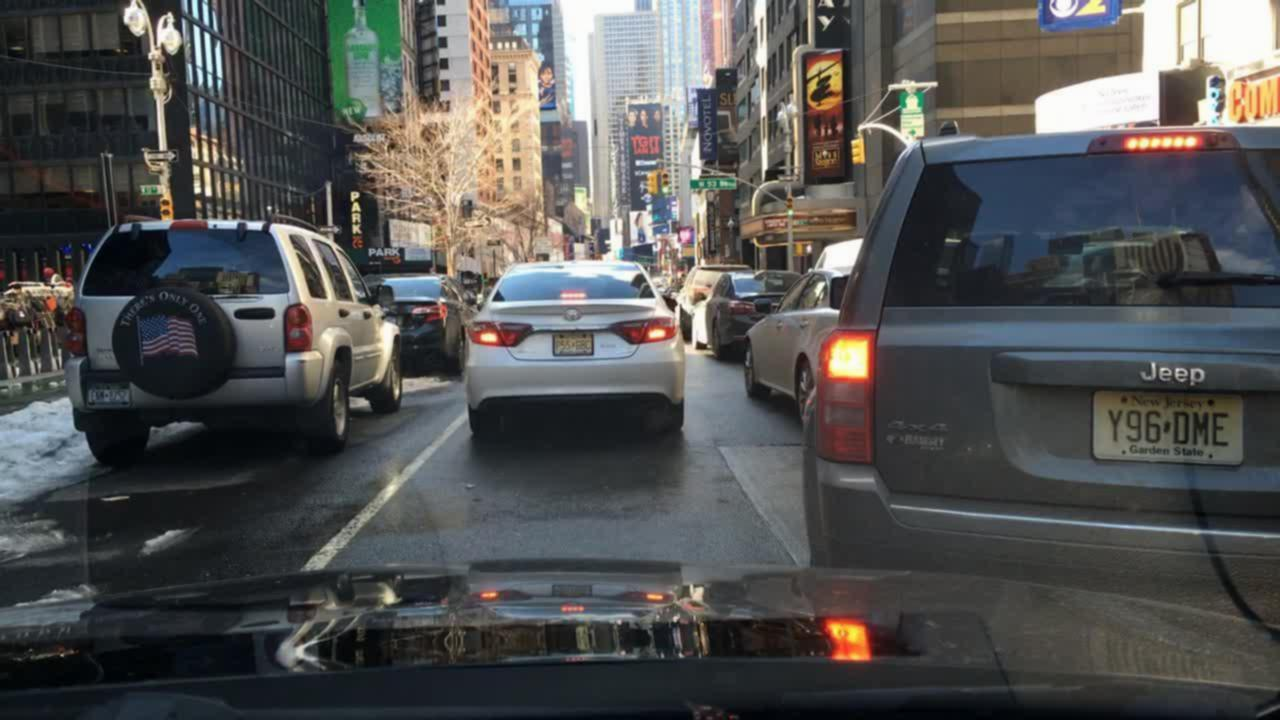Toyota: (562, 306, 583, 323)
jeep: (1136, 349, 1216, 396)
